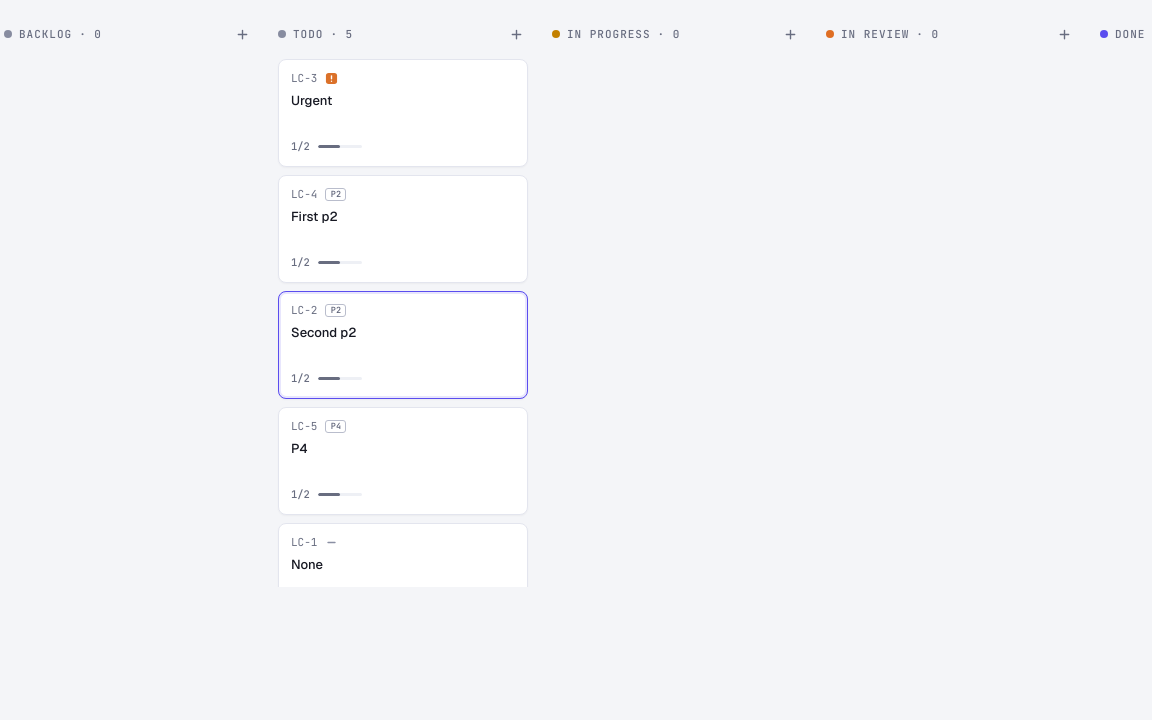
Test: priority on the board › opens the priority menu on the focused card when P is pressed
The width and height of the screenshot is (1152, 720).
Press p in the button "LC-2 P2 Second p2 1/2", box [278,291,528,399]
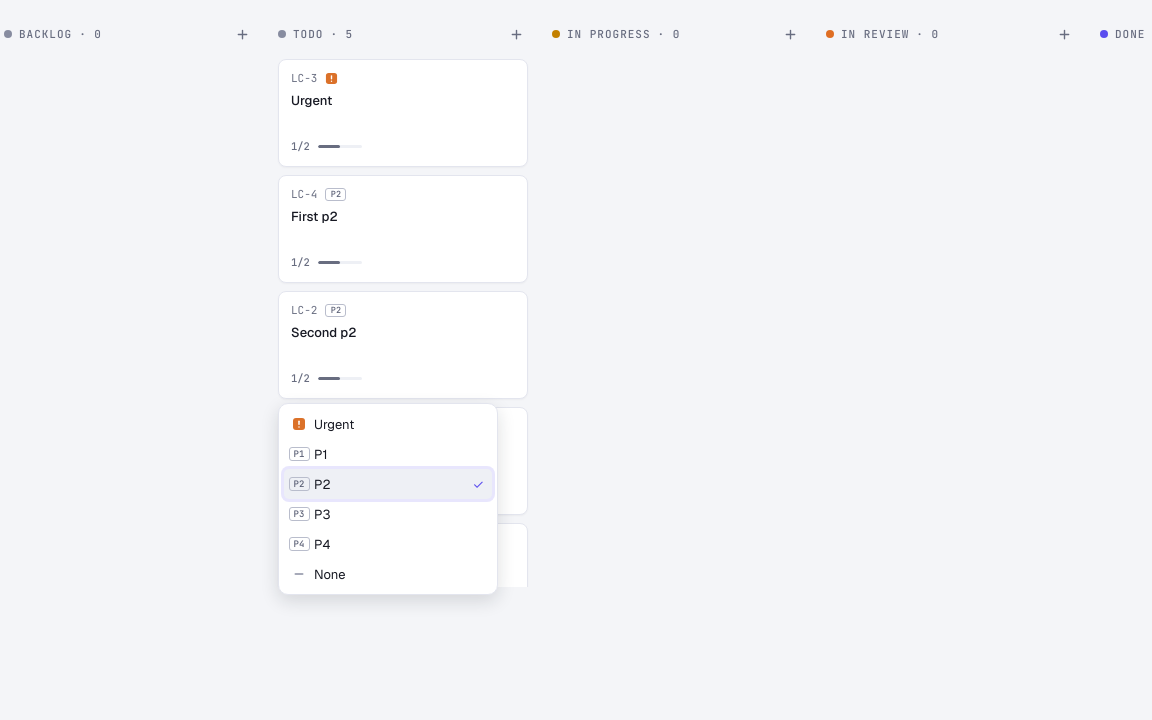
Check: the menu named "Priority" is shown, box [278,403,498,595]
Click the menu item "Urgent": (388, 424) [284,409,492,439]
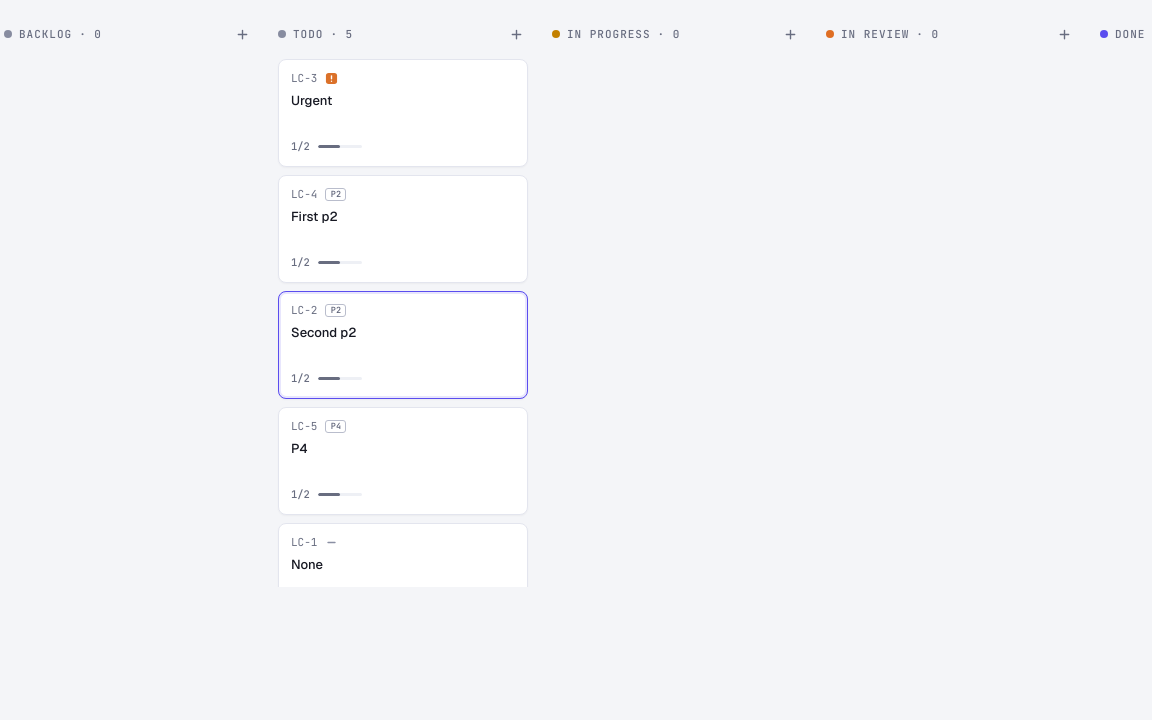
Check: the menu is gone
